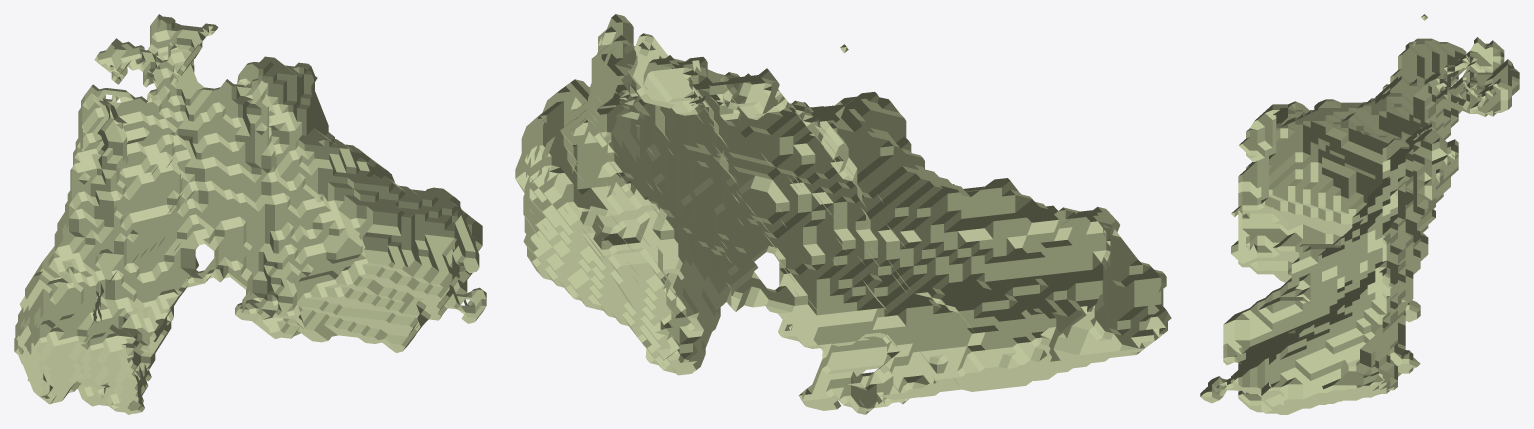
The model's file is region_0044_DP__dorsal_posterior_thalamic_nucleus_.glb.
The picture shows the model from 3 angles, left to right: view 1: azimuth 30°, elevation 25°; view 2: azimuth 150°, elevation 25°; view 3: azimuth 270°, elevation 25°; orthographic projection. The views are drawn at different scales.
Visible parts, largest first — view 1: world; view 2: world; view 3: world.
Boxes of the visible parts, x1,y1,x2,y2 form: world: (14, 14, 486, 414); world: (515, 14, 1171, 414); world: (1200, 14, 1519, 414).
Bounding box in the file's own units: 0.584 × 0.352 × 0.336.
